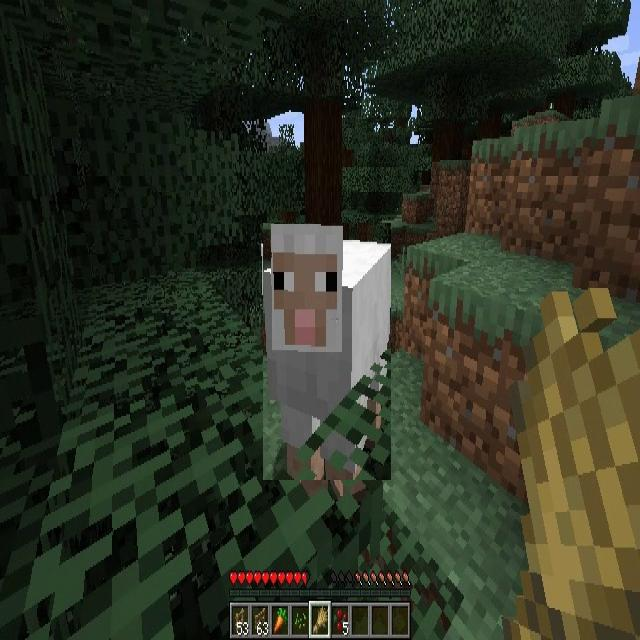sheep: (263, 223, 391, 480)
